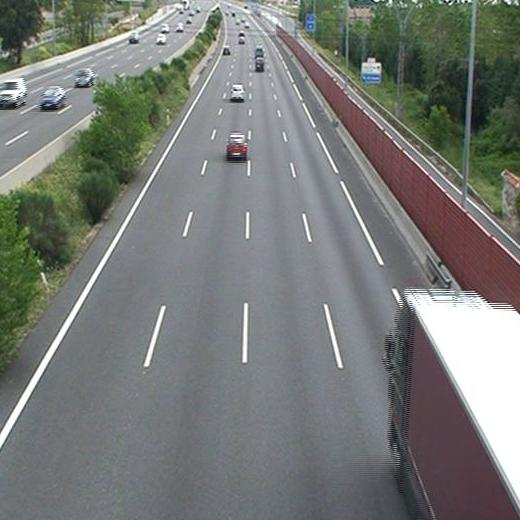car: (227, 134, 247, 157), (230, 85, 244, 100), (222, 46, 230, 54)
truck: (384, 290, 520, 519)
van: (255, 57, 265, 70), (255, 47, 263, 58)
